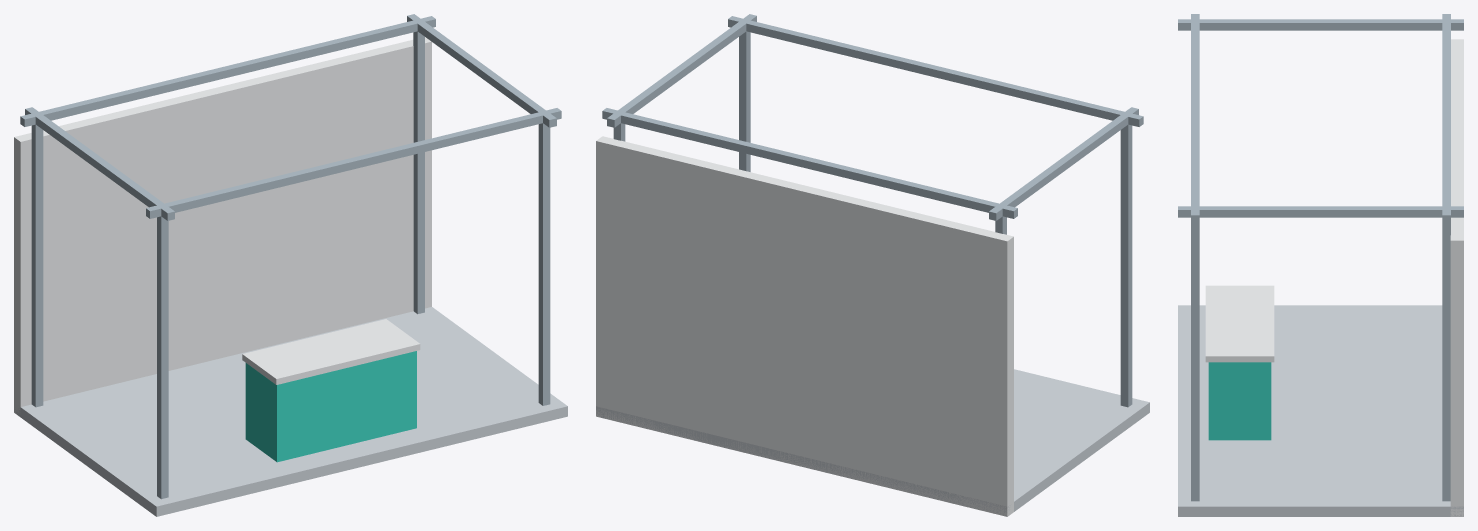
3 views of the same model, side by side, from view 1: azimuth 30°, elevation 25°; view 2: azimuth 150°, elevation 25°; view 3: azimuth 270°, elevation 25° (orthographic).
Visible parts, largest first — view 1: Exhibition Booth Concept; view 2: Exhibition Booth Concept; view 3: Exhibition Booth Concept.
Part boxes in pixels (x1,y1,x2,y2): Exhibition Booth Concept: [14, 14, 567, 516]; Exhibition Booth Concept: [596, 14, 1149, 516]; Exhibition Booth Concept: [1178, 14, 1463, 516].
Bounding box in the file's own units: 5 × 3.49 × 3.
